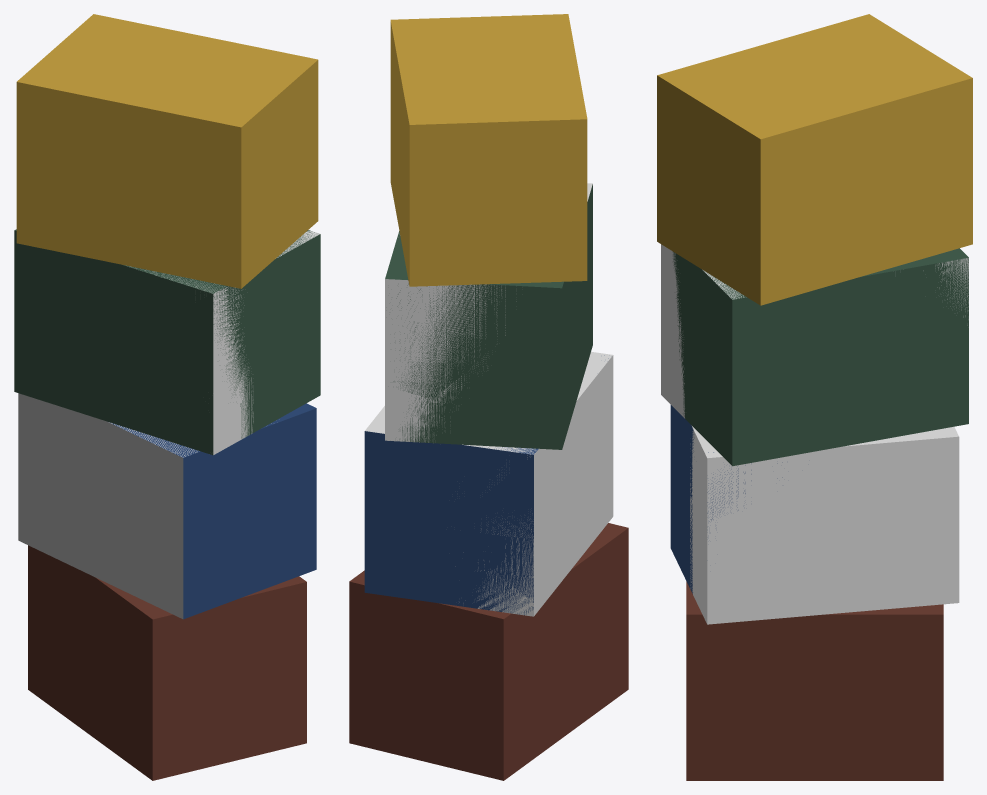
The model's file is booth-3-extra.glb.
The picture shows the model from 3 angles, left to right: view 1: azimuth 30°, elevation 25°; view 2: azimuth 150°, elevation 25°; view 3: azimuth 270°, elevation 25°; orthographic projection. The views are drawn at different scales.
Parts seen in each view (by area): view 1: 03_#c9a13a_r320, 02_#3c5a48_r320, 00_#6a3a2e_r320, solid, 01_#2c4a7a_r320, solid.001; view 2: 03_#c9a13a_r320, 00_#6a3a2e_r320, 02_#3c5a48_r320, 01_#2c4a7a_r320, solid, solid.001; view 3: 03_#c9a13a_r320, 02_#3c5a48_r320, solid, 00_#6a3a2e_r320, solid.001, 01_#2c4a7a_r320.
Part boxes in pixels (box(x1,y1,x2,y2)): 03_#c9a13a_r320: box(16, 14, 318, 288); 02_#3c5a48_r320: box(14, 229, 320, 455); 00_#6a3a2e_r320: box(28, 545, 306, 780); solid: box(18, 393, 271, 618); 01_#2c4a7a_r320: box(110, 403, 316, 619); solid.001: box(130, 230, 319, 454); 03_#c9a13a_r320: box(390, 14, 587, 286); 00_#6a3a2e_r320: box(349, 523, 628, 780); 02_#3c5a48_r320: box(385, 184, 592, 449); 01_#2c4a7a_r320: box(364, 355, 608, 615); solid: box(365, 351, 613, 616); solid.001: box(385, 183, 592, 442); 03_#c9a13a_r320: box(657, 14, 972, 305); 02_#3c5a48_r320: box(673, 248, 968, 466); solid: box(690, 426, 959, 624); 00_#6a3a2e_r320: box(686, 581, 943, 780); solid.001: box(661, 244, 968, 418); 01_#2c4a7a_r320: box(670, 405, 782, 593).
Bounding box in the file's own units: 0.8079 × 2 × 0.8601.
